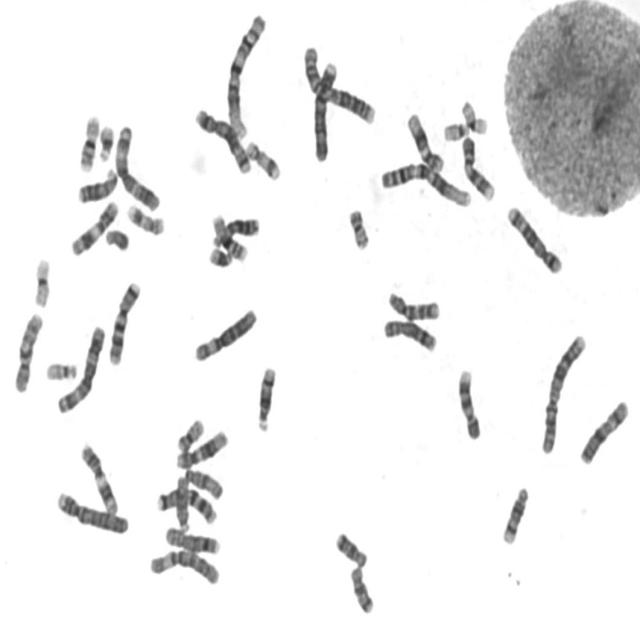A1: (222, 7, 268, 140), (377, 155, 473, 209)
A2: (299, 38, 377, 125), (536, 326, 588, 456)
A3: (53, 318, 107, 415), (110, 118, 162, 213)
B4: (52, 485, 130, 537), (310, 54, 340, 164)
B5: (503, 200, 564, 276), (190, 101, 252, 175)
C10: (10, 306, 44, 394), (383, 284, 442, 322)
C11: (66, 194, 121, 258), (76, 437, 119, 516)
C12: (403, 105, 446, 173), (172, 424, 230, 470)
C6: (190, 302, 259, 364), (145, 543, 222, 587)
C7: (104, 275, 142, 366), (152, 482, 218, 526)
C8: (379, 312, 438, 353), (161, 520, 222, 556)
C9: (458, 129, 497, 202), (453, 362, 483, 441)
D13: (208, 211, 261, 249), (74, 162, 118, 204)
D14: (498, 479, 531, 546), (253, 360, 278, 434)
D15: (182, 462, 225, 502), (172, 469, 192, 534)
E16: (208, 207, 250, 263), (75, 108, 101, 173)
E17: (242, 134, 282, 183), (123, 198, 167, 236)
E18: (346, 560, 376, 616), (331, 525, 369, 569)
F19: (457, 93, 490, 136), (29, 252, 52, 308)
F20: (344, 202, 372, 251), (172, 412, 205, 453)
G21: (95, 118, 116, 163), (205, 241, 234, 269)
G22: (42, 355, 79, 382), (440, 116, 470, 142)
X: (575, 393, 631, 466)
Y: (102, 222, 130, 252)
